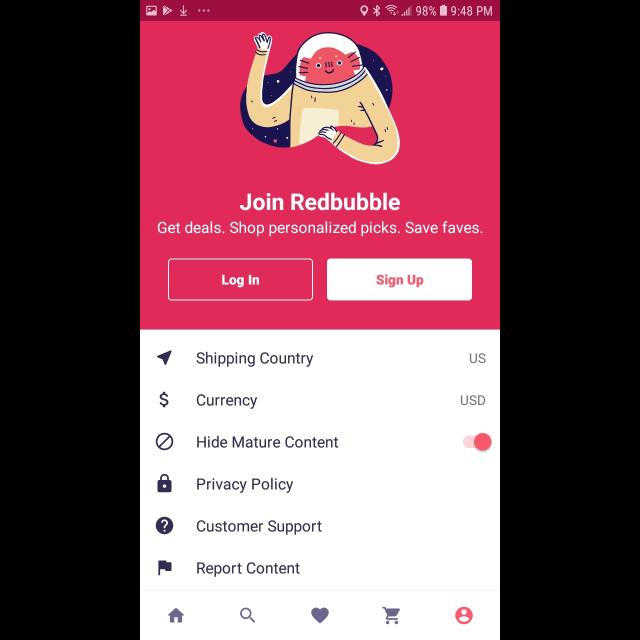icon: (382, 606, 400, 624), (455, 607, 473, 625), (156, 517, 174, 535), (311, 608, 329, 624), (158, 473, 172, 492), (168, 608, 184, 622), (240, 608, 256, 622), (158, 350, 172, 366), (160, 392, 168, 408)
image: (240, 32, 400, 165), (156, 433, 174, 451), (159, 560, 173, 576)
switch: (463, 432, 492, 452)
text: (158, 221, 482, 237), (240, 193, 400, 211), (196, 352, 314, 368), (198, 520, 322, 534), (198, 436, 338, 448), (196, 562, 300, 578), (198, 478, 294, 494), (198, 394, 258, 408), (460, 395, 486, 405), (470, 354, 486, 364)
textbutton: (168, 259, 314, 301), (328, 259, 472, 301)
uppertaskbar: (140, 1, 500, 22)
